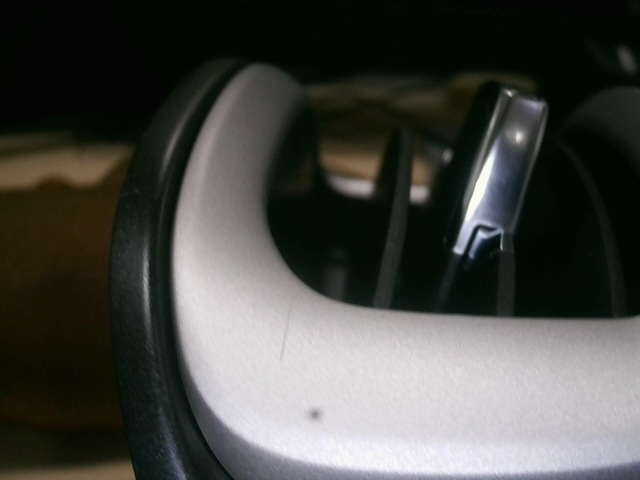NG: (272, 297, 302, 367)
